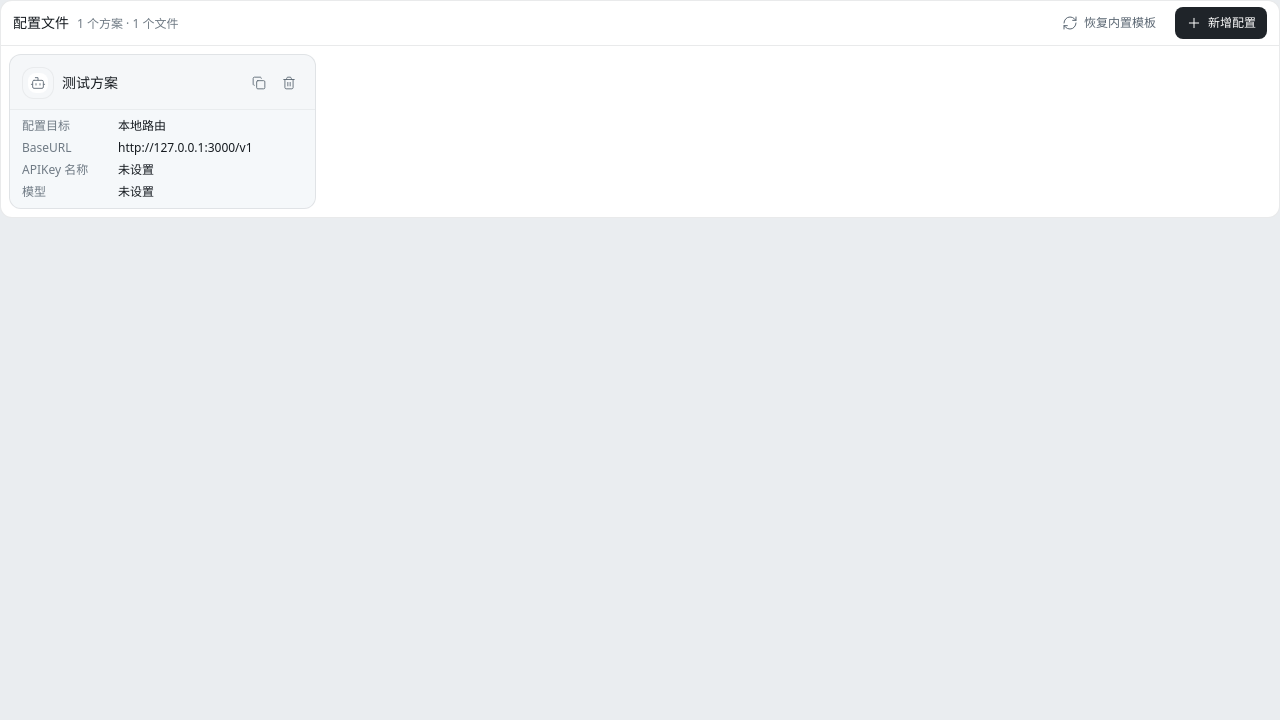
Test: ConfigProfilesSection UI refresh › does not render the session association card in the editor
The width and height of the screenshot is (1280, 720).
Click the element named "测试方案 配置卡片". click: (162, 132)
box: [9,54,316,209]
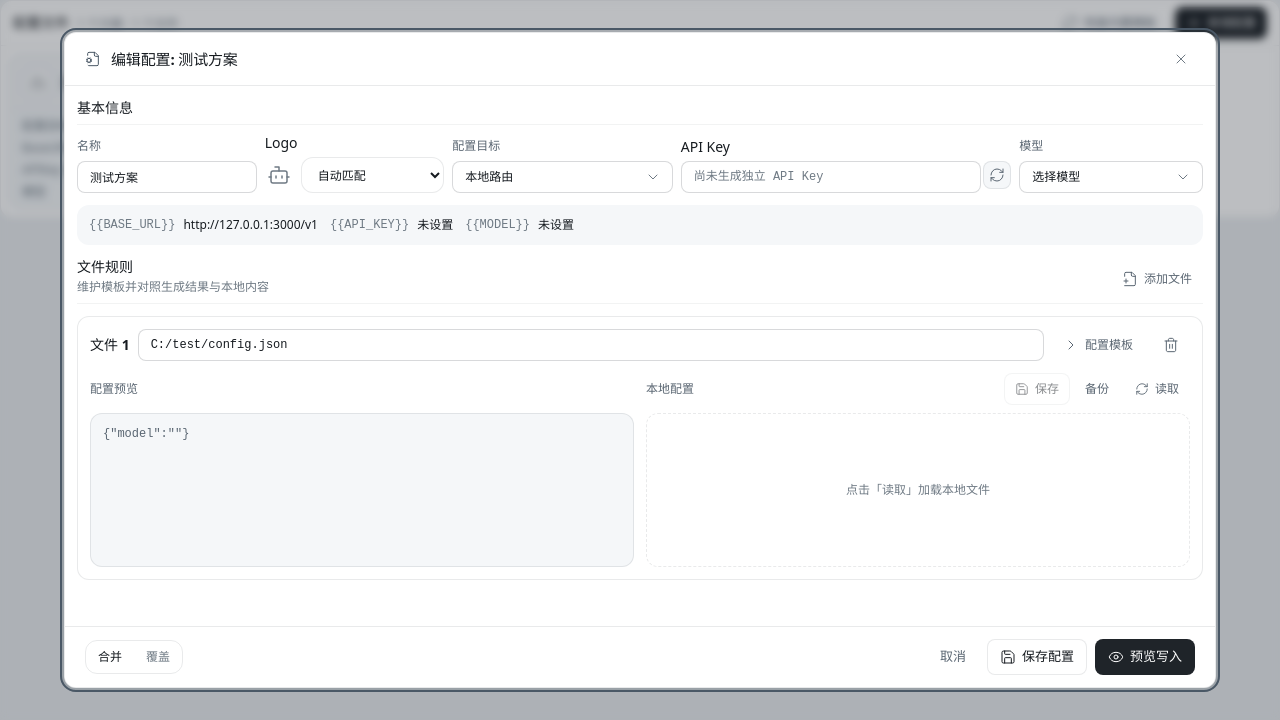
Result: the field showing "测试方案" is shown at [77,161,257,193]
